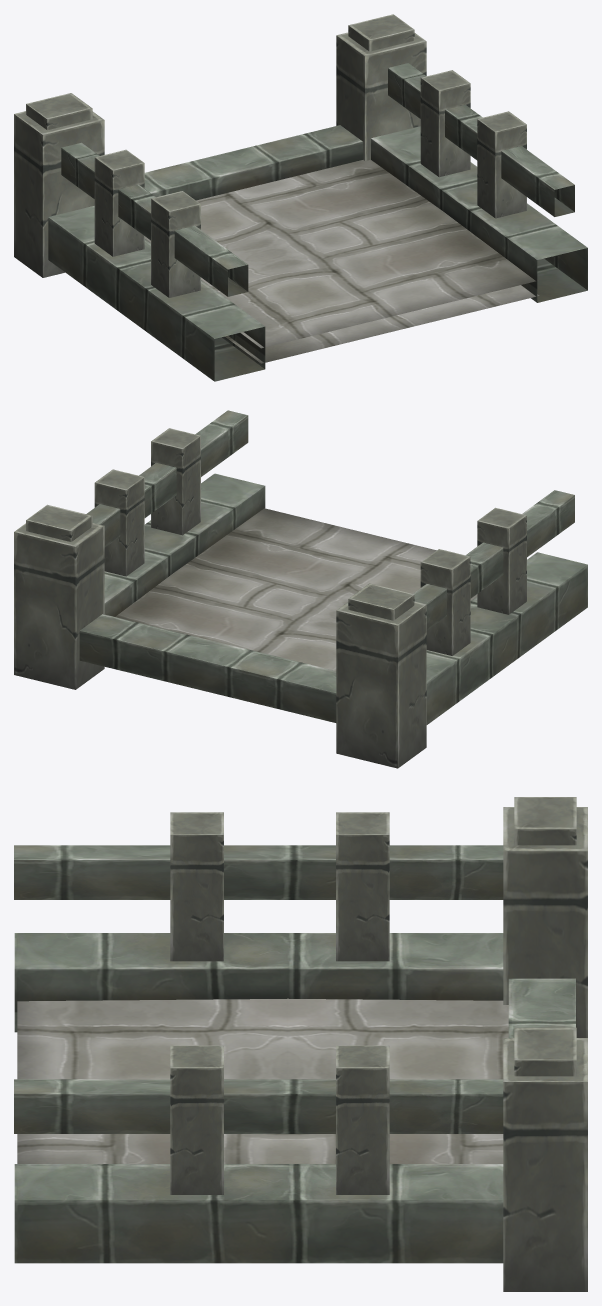
The model's file is bridge_04_tile_06.fbx.
The picture shows the model from 3 angles, top to bottom: view 1: azimuth 30°, elevation 25°; view 2: azimuth 150°, elevation 25°; view 3: azimuth 270°, elevation 25°; orthographic projection. The views are drawn at different scales.
Parts seen in each view (by area): view 1: bridge_04_tile_06; view 2: bridge_04_tile_06; view 3: bridge_04_tile_06.
Part boxes in pixels (x1,y1,x2,y2): bridge_04_tile_06: (14,14,587,381); bridge_04_tile_06: (14,410,587,768); bridge_04_tile_06: (14,797,587,1291).
Size of the model in its own units: 2.84 by 1.09 by 2.5.
